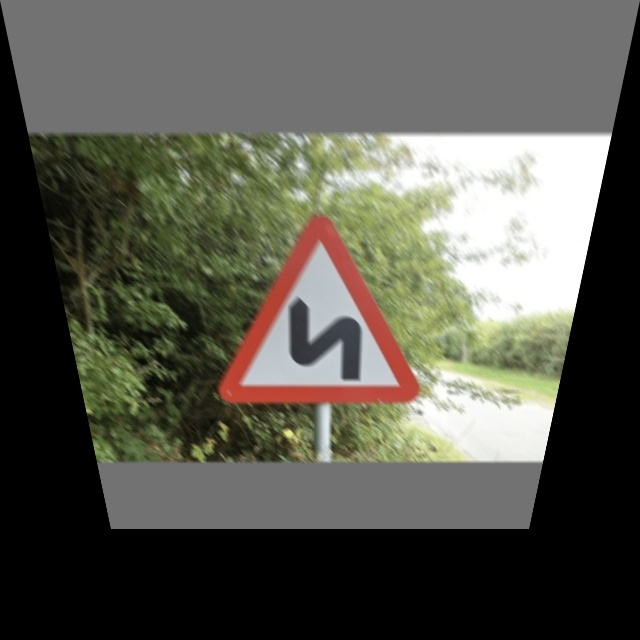Left_Reverse_Bend: (206, 214, 437, 406)
